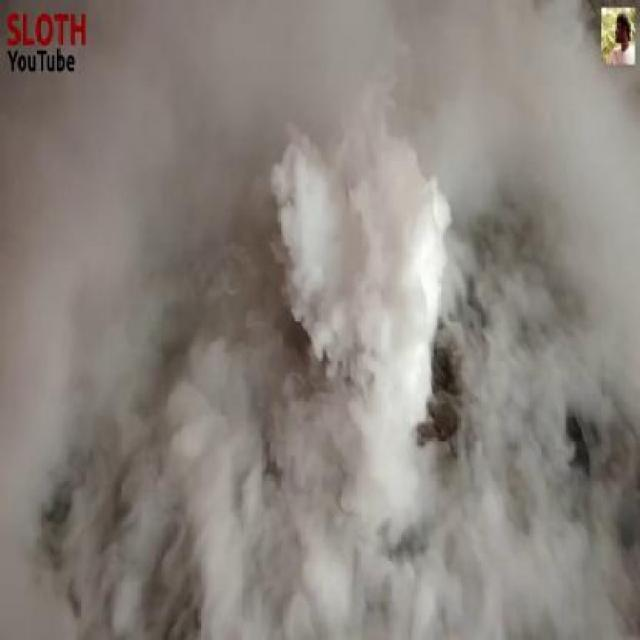smoke: (144, 67, 544, 556)
